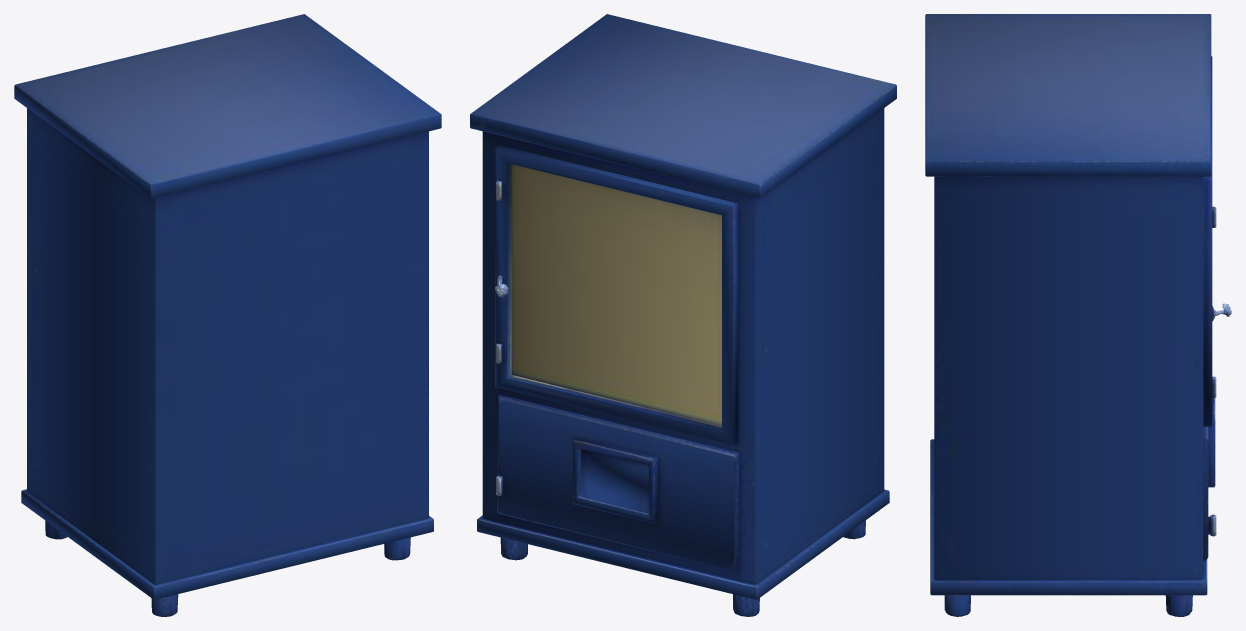
The model's file is street-paperbox.glb.
The picture shows the model from 3 angles, left to right: view 1: azimuth 30°, elevation 25°; view 2: azimuth 150°, elevation 25°; view 3: azimuth 270°, elevation 25°; orthographic projection. The views are drawn at different scales.
Parts seen in each view (by area): view 1: tripo_node_b38f5fd3-d307-493a-98c5-dcb320a0bb61; view 2: tripo_node_b38f5fd3-d307-493a-98c5-dcb320a0bb61; view 3: tripo_node_b38f5fd3-d307-493a-98c5-dcb320a0bb61.
Boxes of the visible parts, x1,y1,x2,y2 form: tripo_node_b38f5fd3-d307-493a-98c5-dcb320a0bb61: [14, 14, 441, 616]; tripo_node_b38f5fd3-d307-493a-98c5-dcb320a0bb61: [470, 14, 896, 616]; tripo_node_b38f5fd3-d307-493a-98c5-dcb320a0bb61: [925, 14, 1231, 616].
Bounding box in the file's own units: 0.7615 × 1.12 × 0.6655.
Materials: 1 (1 with a texture image).
